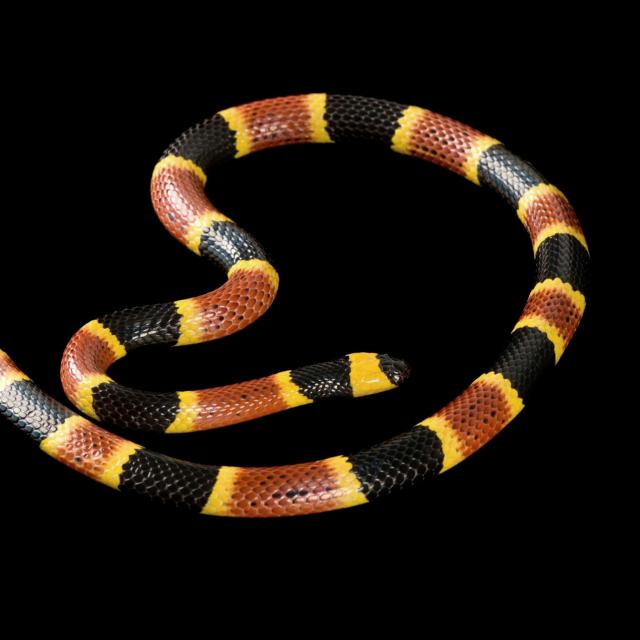snake: (0, 94, 589, 517)
